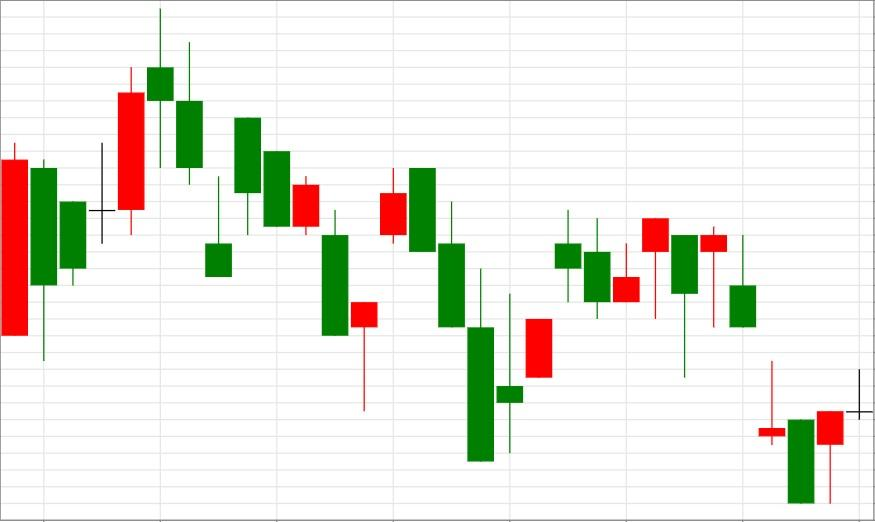hammer_rise: (233, 117, 378, 412)
hanging_man_fall: (466, 210, 670, 462)
inverse_hammer_rise: (146, 9, 233, 278)
three_black_crows_fall: (350, 167, 495, 462)
